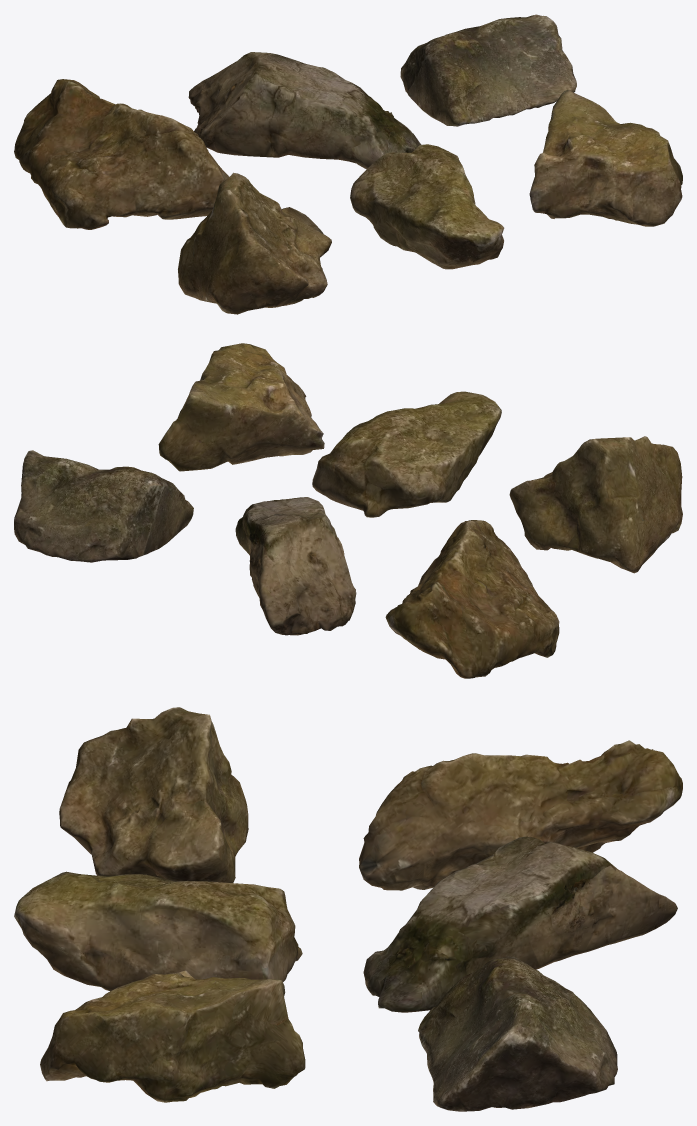
The model's file is rock-moss-set-01.glb.
3 renders of one model, top to bottom at view 1: azimuth 30°, elevation 25°; view 2: azimuth 150°, elevation 25°; view 3: azimuth 270°, elevation 25°, orthographic. The views are drawn at different scales.
Parts seen in each view (by area): view 1: rock_moss_set_01_rock01; view 2: rock_moss_set_01_rock01; view 3: rock_moss_set_01_rock01.
Part boxes in pixels (left/top/right/bottom): rock_moss_set_01_rock01: left=14, top=14, right=682, bottom=314; rock_moss_set_01_rock01: left=14, top=343, right=682, bottom=678; rock_moss_set_01_rock01: left=14, top=707, right=682, bottom=1111.
Bounding box in the file's own units: 8 × 1.76 × 6.94.
Materials: 1 (1 with a texture image).
